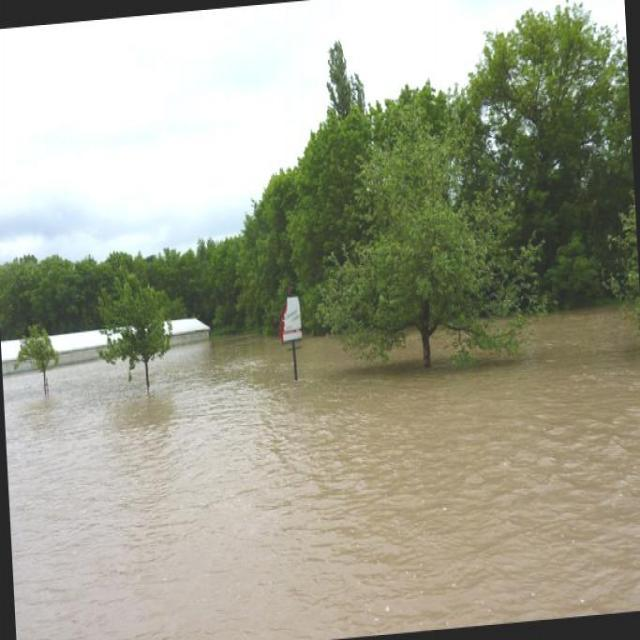flood: (0, 259, 639, 639)
